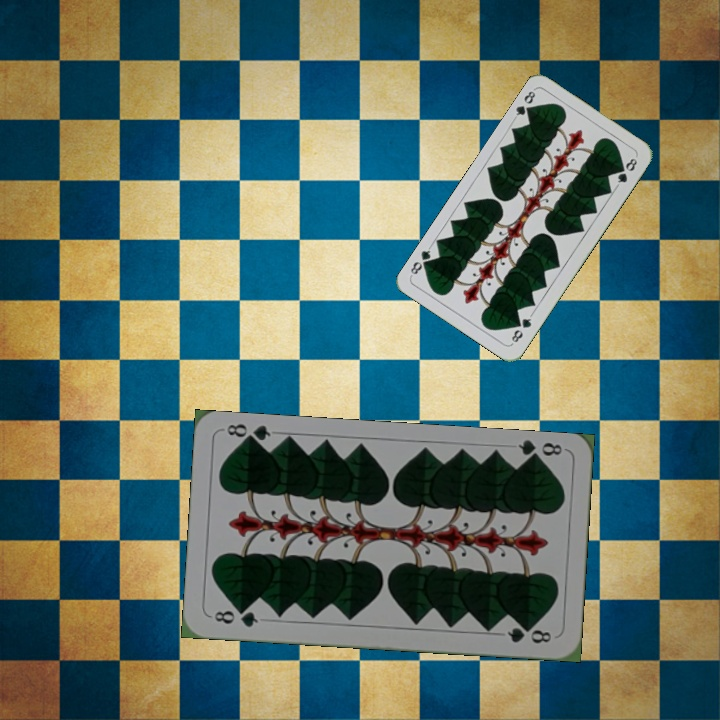G8: (514, 437, 564, 465), (210, 605, 261, 630), (507, 310, 535, 346), (510, 85, 538, 121)
